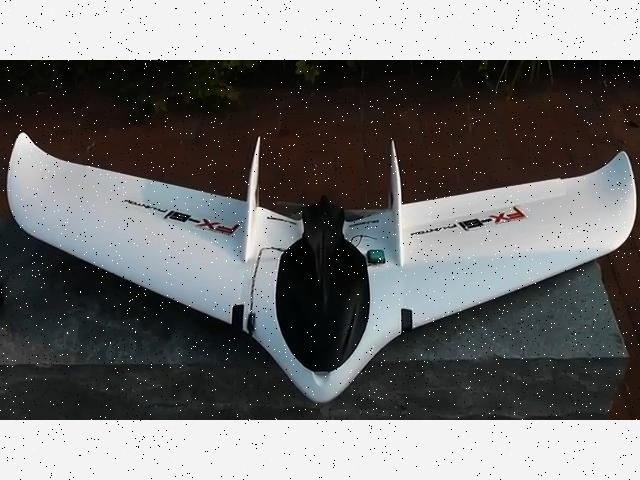Anti-Drone: (2, 124, 640, 420)
